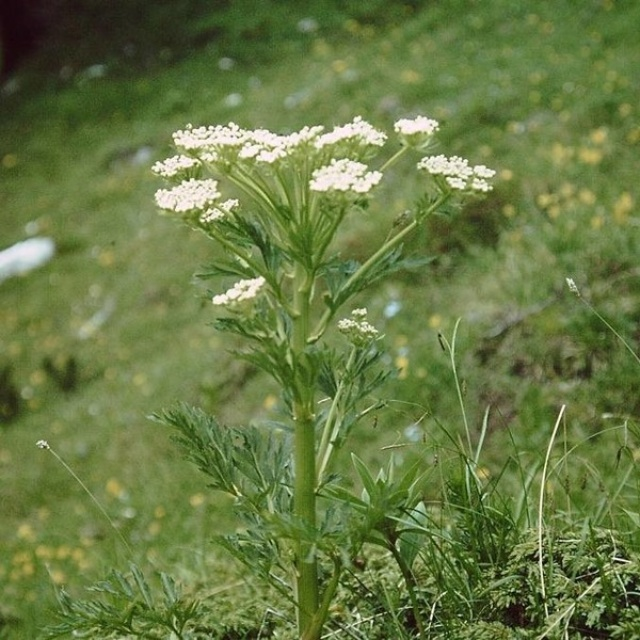obstacle: (153, 110, 513, 619), (396, 322, 617, 614)
